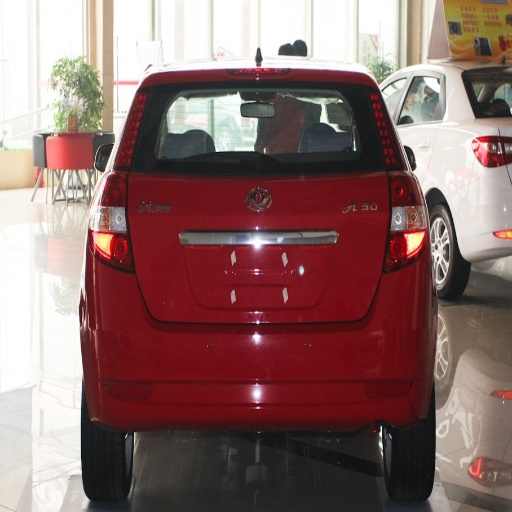back_bumper: (92, 226, 452, 459)
tailgate: (130, 203, 383, 320)
trunk: (131, 158, 385, 268)
